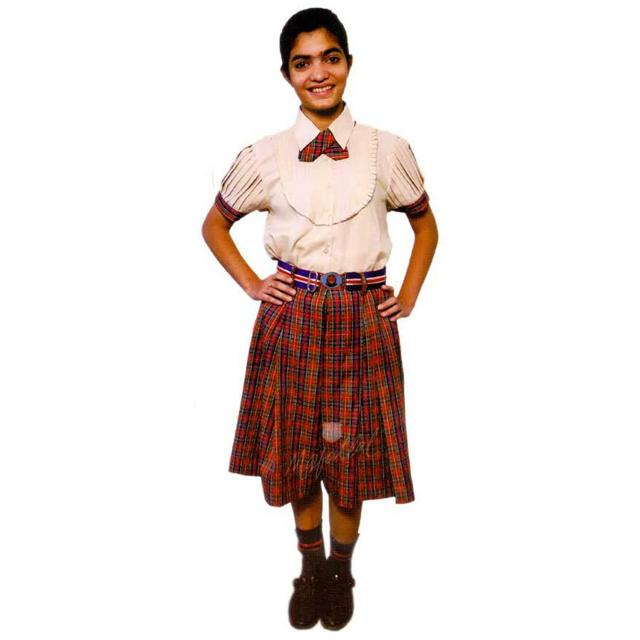child: (189, 4, 443, 636)
